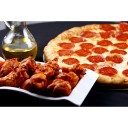pepperonipizza: (44, 22, 128, 81)
